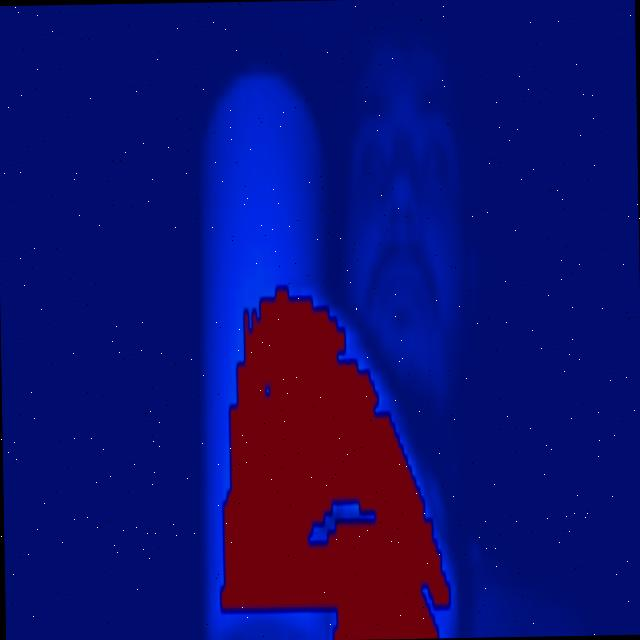rectangle: (194, 91, 376, 586)
